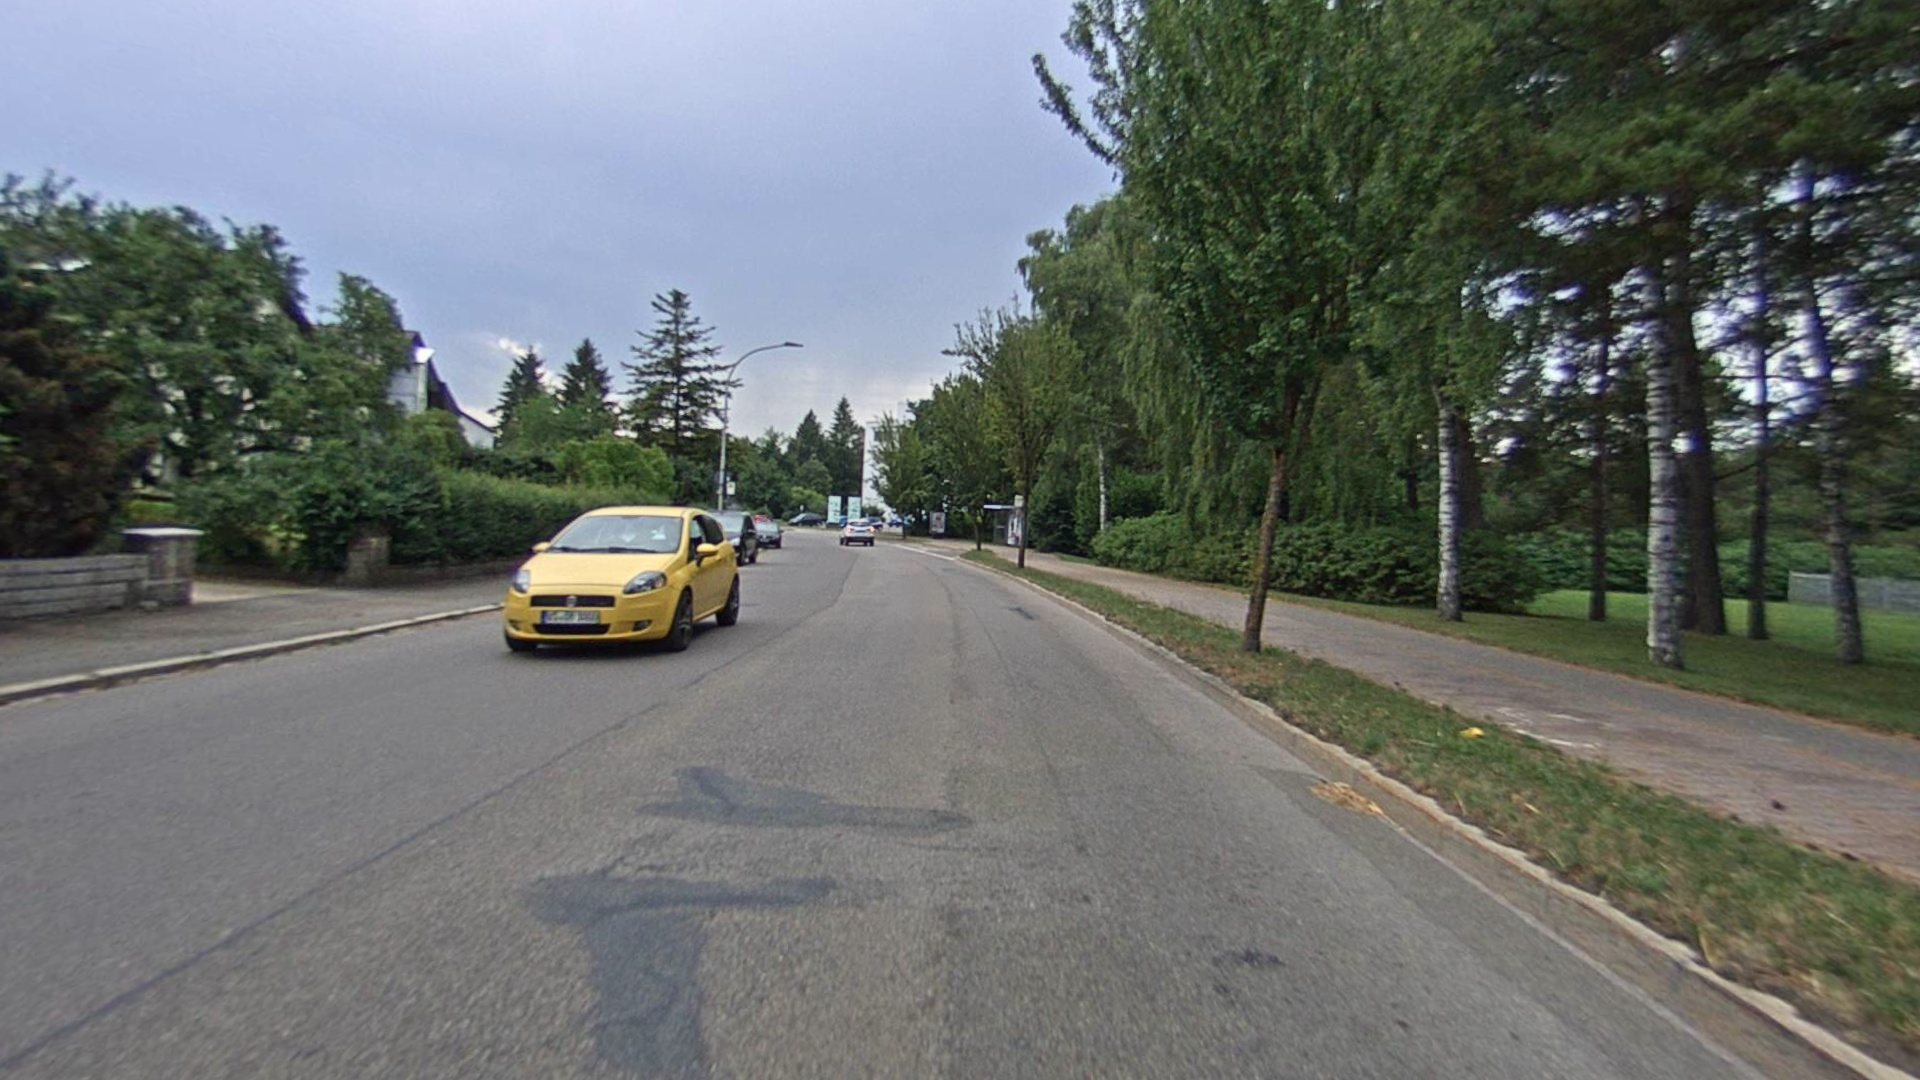car: (501, 502, 742, 654)
